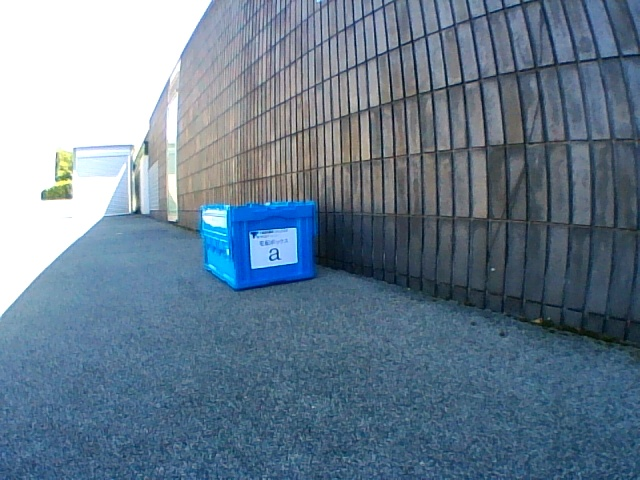blue_box: (201, 201, 315, 288)
tag_a: (257, 234, 294, 263)
